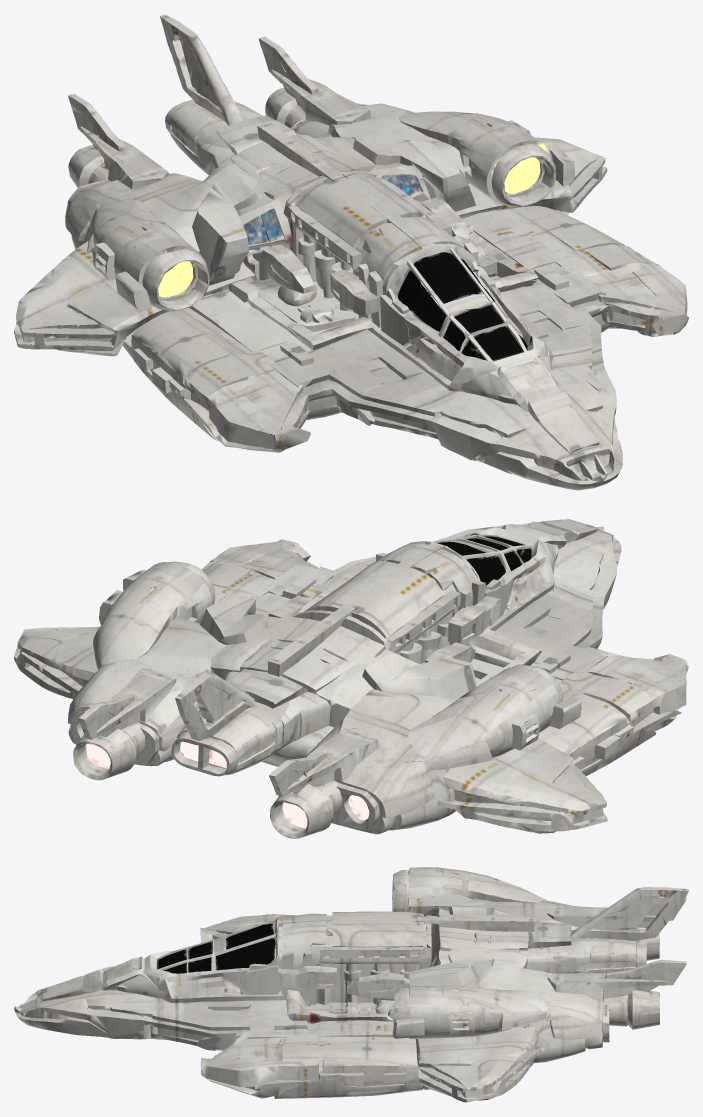
Rendered from spaceship_colaid1_50k.glb.
3 views of the same model, one above another, from view 1: azimuth 30°, elevation 25°; view 2: azimuth 150°, elevation 25°; view 3: azimuth 270°, elevation 25° (orthographic). The views are drawn at different scales.
Visible parts, largest first — view 1: Spaceship_cool_AI1.001_gameasset_Spaceship_cool_AI1.001_game; view 2: Spaceship_cool_AI1.001_gameasset_Spaceship_cool_AI1.001_game; view 3: Spaceship_cool_AI1.001_gameasset_Spaceship_cool_AI1.001_game.
Boxes of the visible parts, <box> form: Spaceship_cool_AI1.001_gameasset_Spaceship_cool_AI1.001_game: <box>14,14,688,490</box>; Spaceship_cool_AI1.001_gameasset_Spaceship_cool_AI1.001_game: <box>14,519,688,838</box>; Spaceship_cool_AI1.001_gameasset_Spaceship_cool_AI1.001_game: <box>14,867,688,1102</box>.
Bounding box in the file's own units: 405 × 131 × 514.
1 material, 1 textured.
